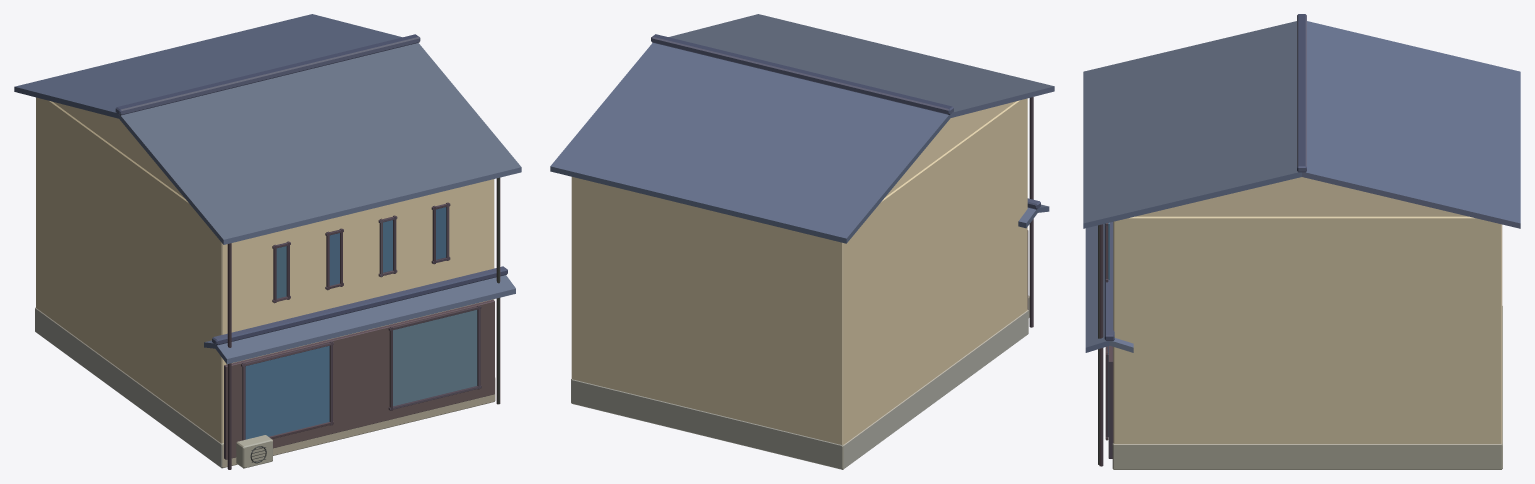
Rendered from ART_EavesStorehouse.lod.glb.
3 views of the same model, side by side, from view 1: azimuth 30°, elevation 25°; view 2: azimuth 150°, elevation 25°; view 3: azimuth 270°, elevation 25° (orthographic). The views are drawn at different scales.
Visible parts, largest first — view 1: ART_EavesStorehouse; view 2: ART_EavesStorehouse; view 3: ART_EavesStorehouse.
Boxes of the visible parts, box(x1,y1,x2,y2) form: ART_EavesStorehouse: box(14, 14, 521, 469); ART_EavesStorehouse: box(550, 14, 1054, 469); ART_EavesStorehouse: box(1083, 14, 1520, 469).
Size of the model in its own units: 7.93 by 7.49 by 9.55.
